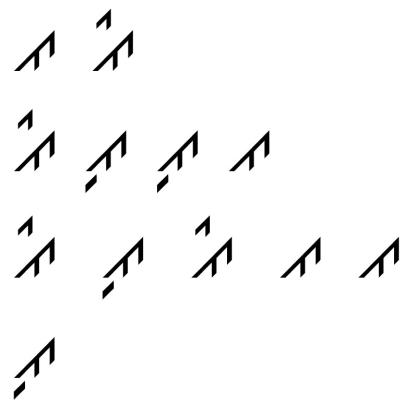ka: (276, 229, 324, 290), (356, 232, 403, 289), (10, 24, 59, 78), (225, 126, 273, 177)
ki: (8, 107, 62, 181), (84, 5, 139, 77), (182, 213, 236, 285), (11, 208, 57, 287)
ku: (87, 231, 147, 300), (7, 334, 62, 400), (150, 122, 200, 194), (81, 126, 131, 194)
